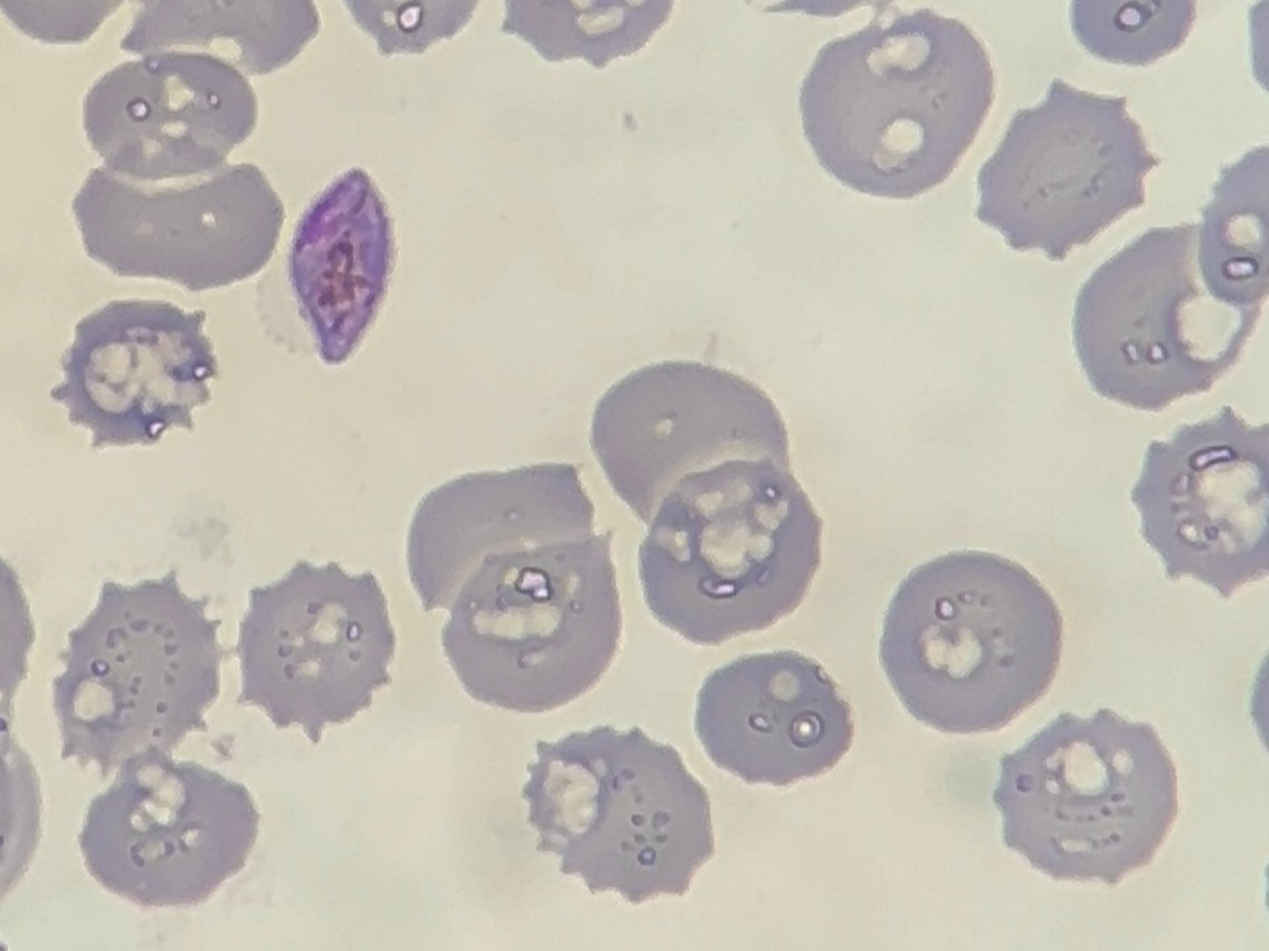Infected: (289, 167, 391, 361)
Uninfected: (802, 13, 989, 198), (636, 471, 820, 648), (595, 362, 786, 531), (880, 553, 1058, 731), (527, 730, 710, 902), (1073, 228, 1244, 411), (974, 81, 1147, 260), (53, 583, 217, 771), (437, 549, 619, 713), (998, 715, 1173, 883), (407, 465, 601, 615), (236, 563, 395, 734), (73, 163, 278, 293), (80, 759, 256, 907), (1130, 410, 1266, 594), (54, 299, 217, 445), (85, 53, 254, 184), (697, 652, 853, 785)
